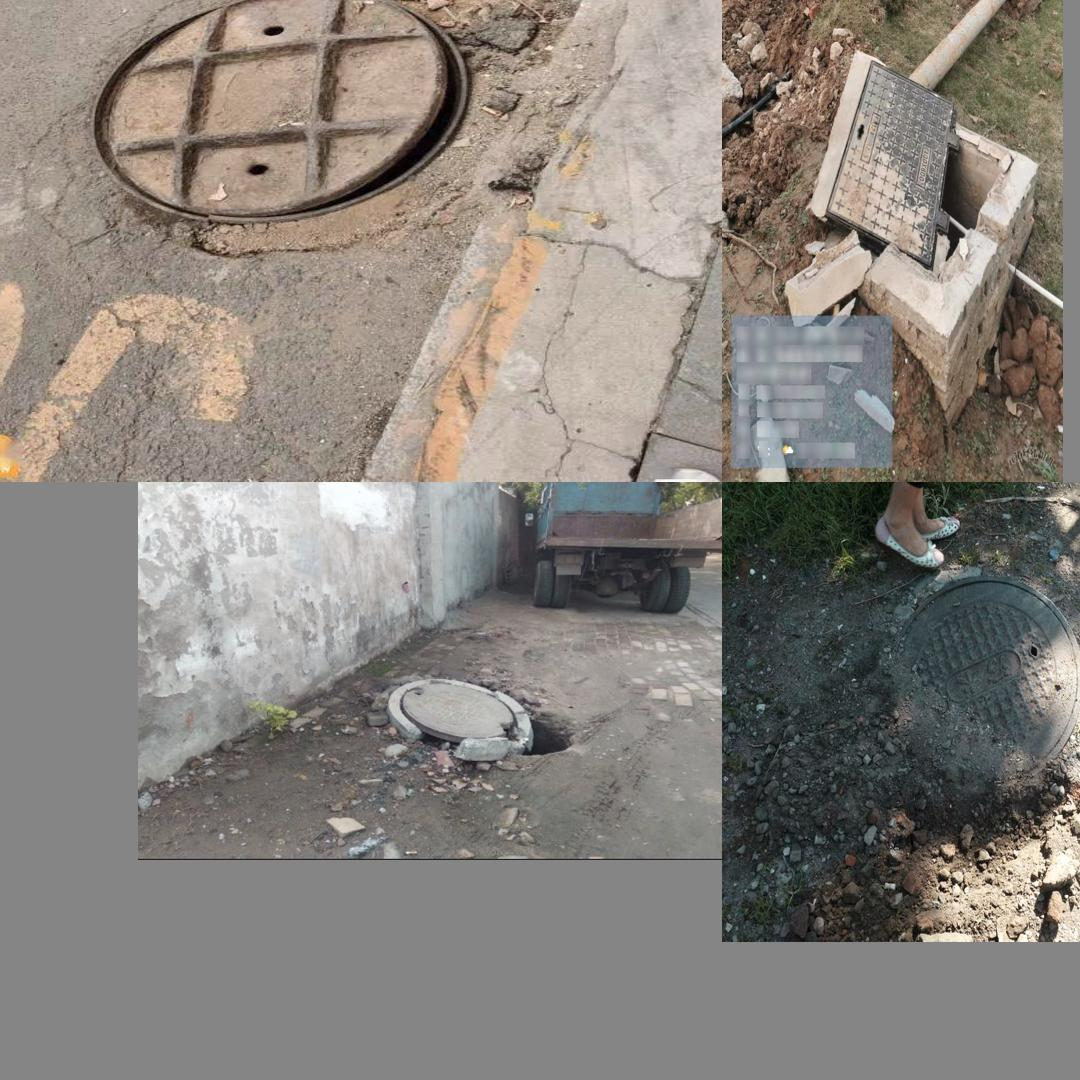circle: (29, 0, 620, 278), (792, 47, 1022, 317), (844, 569, 1080, 821), (384, 677, 559, 762)
